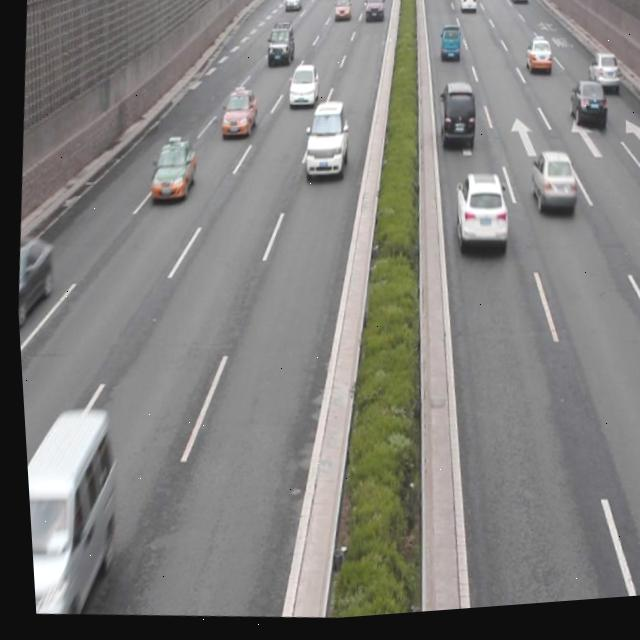car: (446, 176, 508, 263), (142, 136, 199, 211), (299, 101, 349, 186), (11, 233, 55, 329), (523, 155, 575, 226), (216, 87, 257, 146), (564, 86, 606, 140), (583, 59, 619, 105), (284, 67, 318, 113), (264, 26, 295, 70), (522, 45, 550, 83)
truck: (19, 405, 119, 611), (432, 86, 477, 158)
